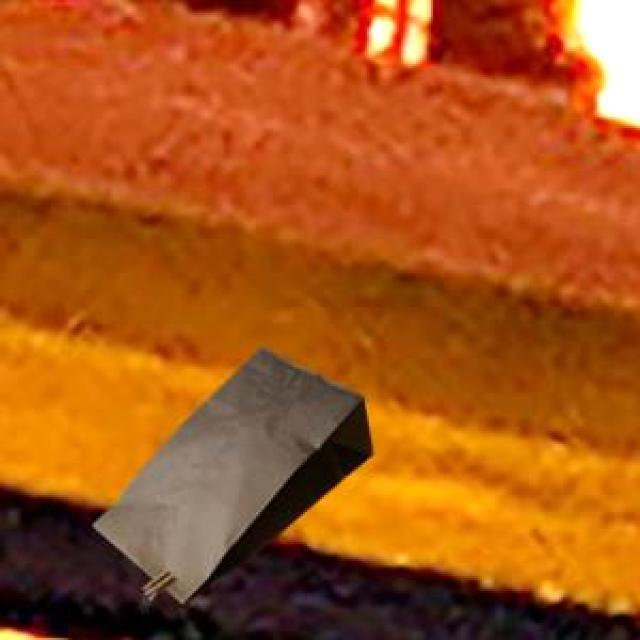Paper_Bag: (90, 344, 370, 600)
